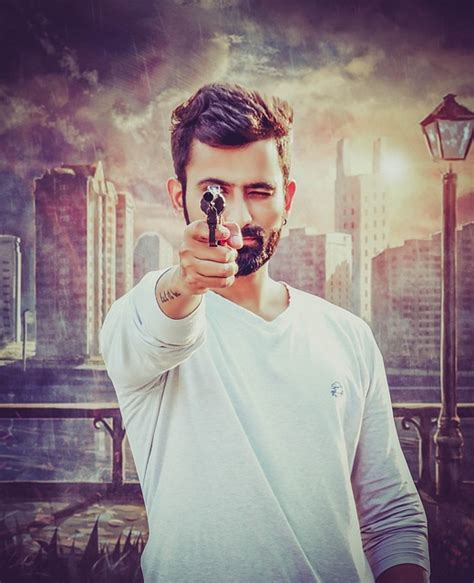gun: (198, 181, 227, 248)
